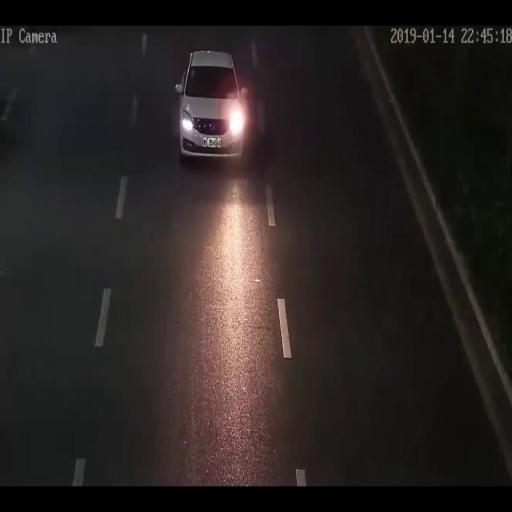License plate: (203, 137, 221, 148)
Vehicle: (175, 50, 248, 165)
